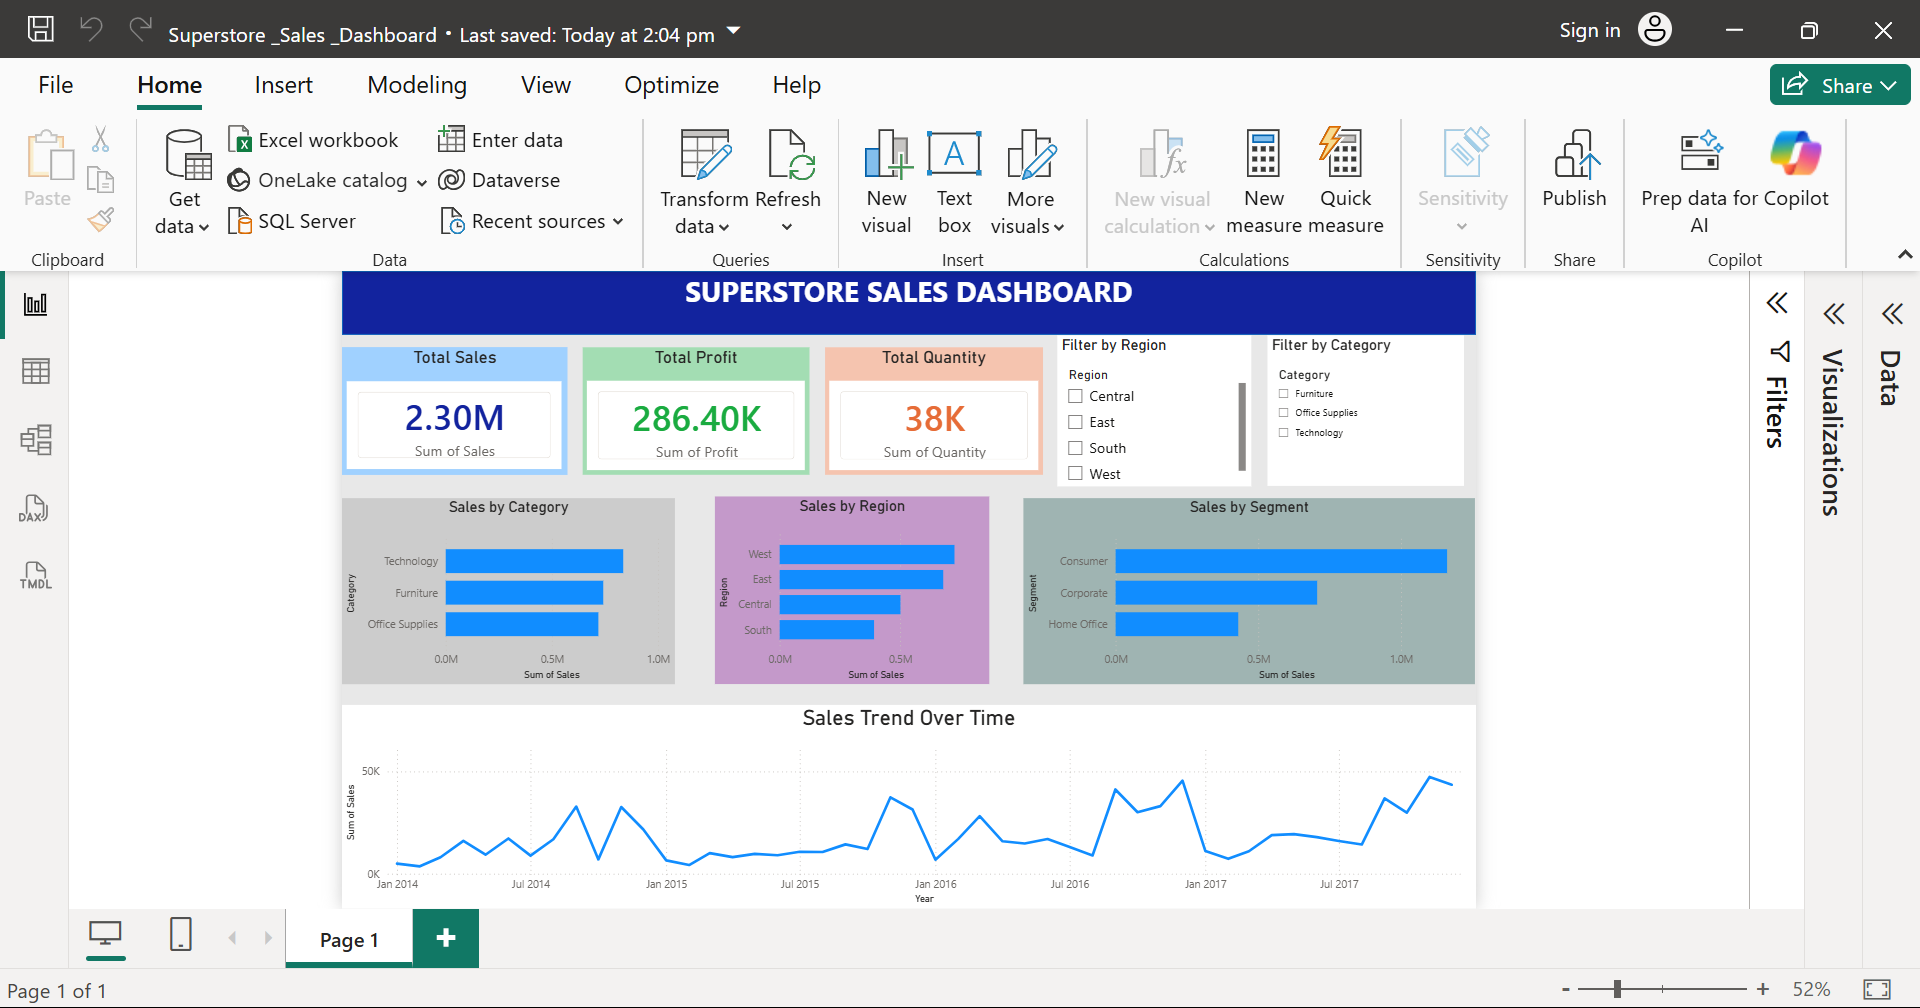

Layout of this report page (visuals, bound fields, positions):
{"tool":"powerbi","page":{"name":"Page 1","canvas":[1280,720],"ordinal":0},"visuals":[{"type":"cardVisual","title":"Total Sales","fields":{"Data":["Sum(Clean_Superstore_Data.Sales)"]},"box":[0,86,254,144],"z":0},{"type":"cardVisual","title":"Total Profit","fields":{"Data":["Sum(Clean_Superstore_Data.Profit)"]},"box":[272,86,256,144],"z":1000},{"type":"cardVisual","title":"Total Quantity ","fields":{"Data":["Sum(Clean_Superstore_Data.Quantity)"]},"box":[546,86,246,144],"z":2000},{"type":"clusteredBarChart","title":" Sales by Category","fields":{"Y":["Sum(Clean_Superstore_Data.Sales)"],"Category":["Clean_Superstore_Data.Category"]},"box":[0,256,376,210],"z":3000},{"type":"clusteredBarChart","title":" Sales by Segment","fields":{"Category":["Clean_Superstore_Data.Segment"],"Y":["Sum(Clean_Superstore_Data.Sales)"]},"box":[770,256,510,210],"z":4000},{"type":"lineChart","title":"Sales Trend Over Time","fields":{"Y":["Sum(Clean_Superstore_Data.Sales)"],"Category":["Clean_Superstore_Data.Order Date.Variation.Date Hierarchy.Year","Clean_Superstore_Data.Order Date.Variation.Date Hierarchy.Month"]},"box":[0,490,1280,230],"z":5000},{"type":"slicer","title":"Filter by Region ","fields":{"Values":["Clean_Superstore_Data.Region"]},"box":[808,72,218,170],"z":6000},{"type":"slicer","title":"Filter by Category","fields":{"Values":["Clean_Superstore_Data.Category"]},"box":[1044,72,222,170],"z":7000},{"type":"shape","box":[0,0,1280,72],"z":8000},{"type":"barChart","title":"Sales by Region","fields":{"Category":["Clean_Superstore_Data.Region"],"Y":["Sum(Clean_Superstore_Data.Sales)"]},"box":[420,254,310,212],"z":9000}]}

Visuals, with their boxes on the page's 1280x720 design canvas (x1, y1, x2, y2). These are canvas units, not pixel positions in the 1920x1008 screenshot, which may show the page scaled, cropped or inside an application window:
"Total Sales" cardVisual: BBox(0, 86, 254, 230)
"Total Profit" cardVisual: BBox(272, 86, 528, 230)
"Total Quantity " cardVisual: BBox(546, 86, 792, 230)
" Sales by Category" clusteredBarChart: BBox(0, 256, 376, 466)
" Sales by Segment" clusteredBarChart: BBox(770, 256, 1280, 466)
"Sales Trend Over Time" lineChart: BBox(0, 490, 1280, 720)
"Filter by Region " slicer: BBox(808, 72, 1026, 242)
"Filter by Category" slicer: BBox(1044, 72, 1266, 242)
shape: BBox(0, 0, 1280, 72)
"Sales by Region" barChart: BBox(420, 254, 730, 466)
